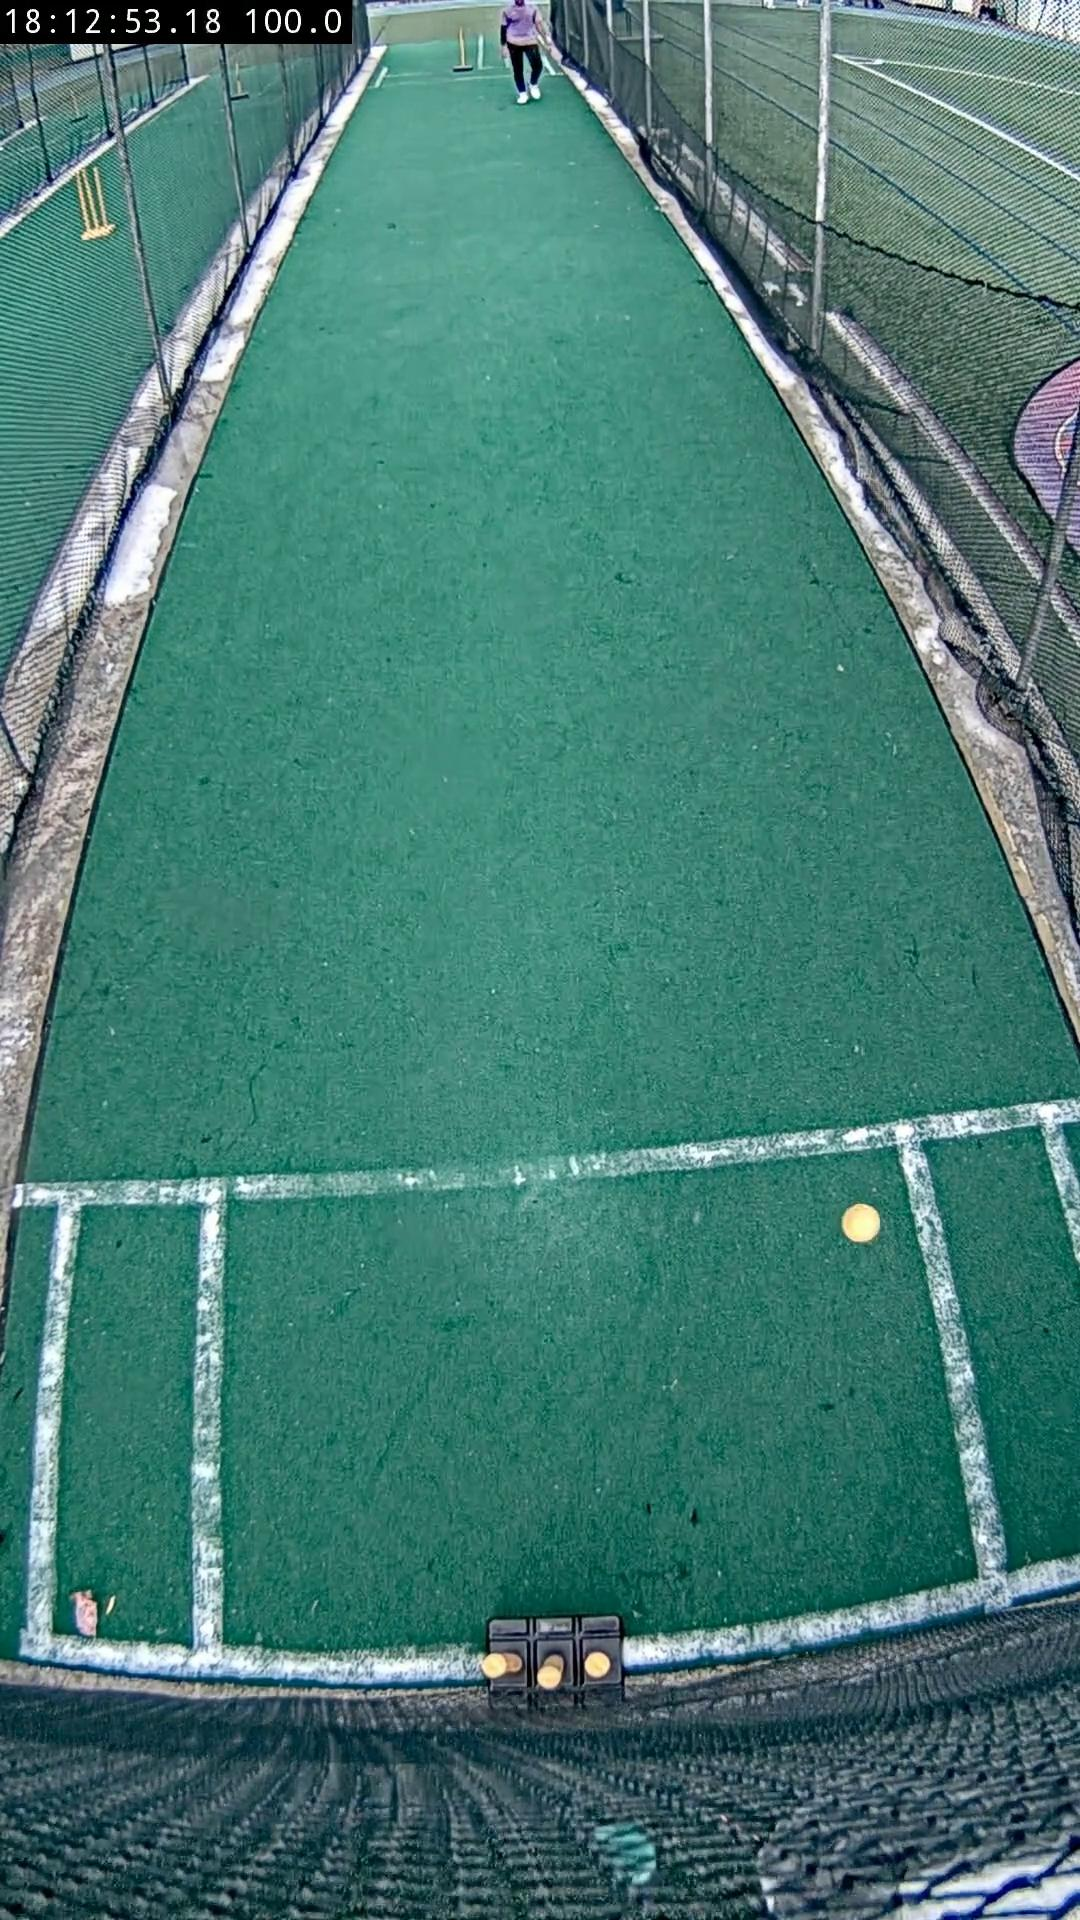ball: (840, 1204, 881, 1244)
stumps: (480, 1617, 622, 1706)
